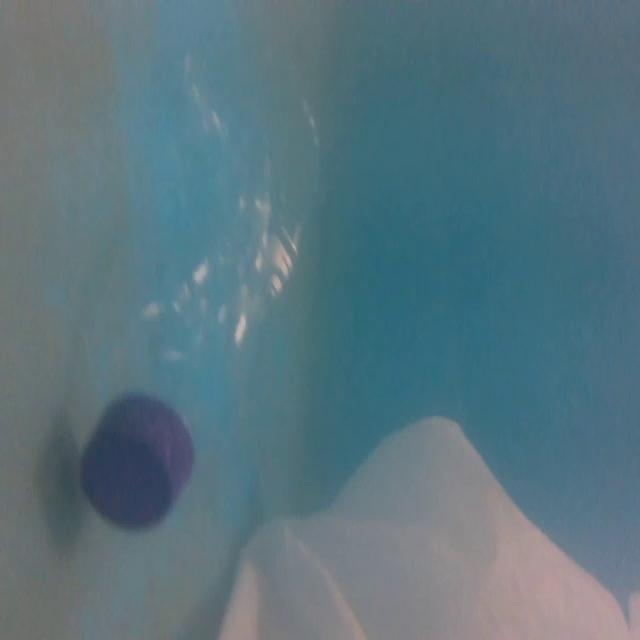plastic bags: (215, 410, 640, 640)
plastic bottle: (69, 38, 331, 532)
